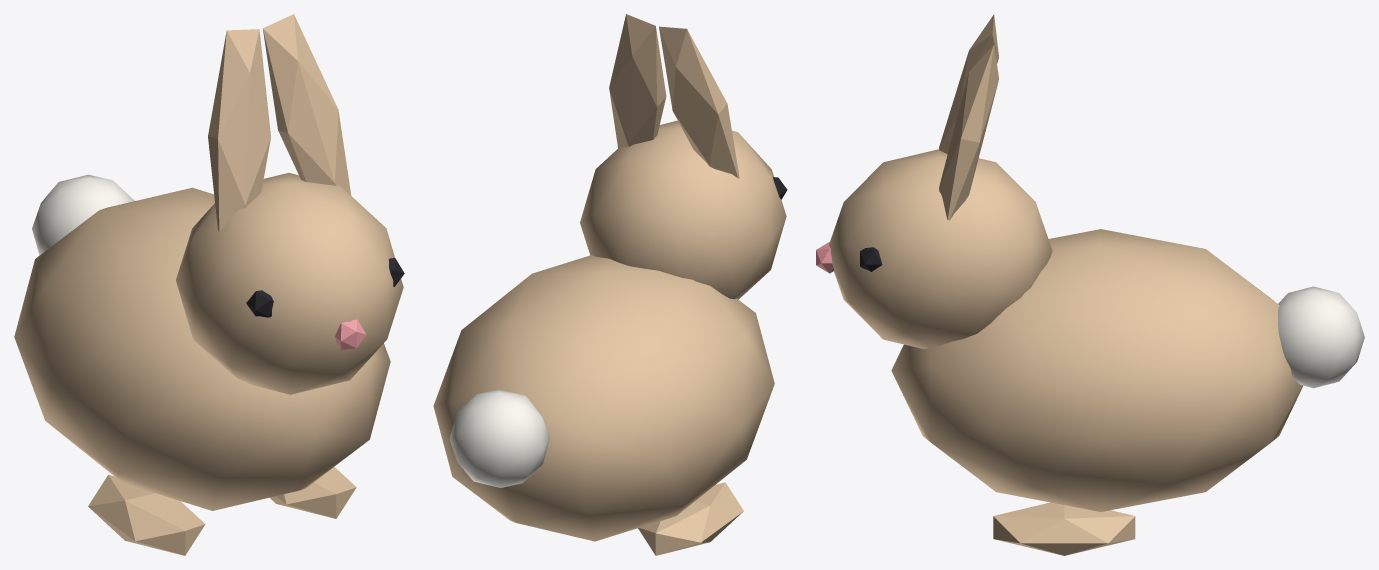
The model's file is conejo_v2.glb.
The picture shows the model from 3 angles, left to right: view 1: azimuth 30°, elevation 25°; view 2: azimuth 150°, elevation 25°; view 3: azimuth 270°, elevation 25°; orthographic projection. The views are drawn at different scales.
Parts seen in each view (by area): view 1: cuerpo, cabeza, oreja_izq, oreja_der, pata_izq, cola, pata_der, nariz, ojo_izq; view 2: cuerpo, cabeza, cola, oreja_izq, oreja_der, pata_izq; view 3: cuerpo, cabeza, cola, pata_der, oreja_der, oreja_izq.
Part boxes in pixels (<box>): cuerpo: <box>14,187,390,510</box>; cabeza: <box>176,173,403,394</box>; oreja_izq: <box>208,29,270,231</box>; oreja_der: <box>263,14,351,195</box>; pata_izq: <box>88,475,205,555</box>; cola: <box>32,174,134,255</box>; pata_der: <box>270,466,356,518</box>; nariz: <box>335,319,366,349</box>; ojo_izq: <box>246,290,273,317</box>; cuerpo: <box>433,255,774,541</box>; cabeza: <box>580,120,786,299</box>; cola: <box>449,389,549,487</box>; oreja_izq: <box>659,26,739,178</box>; oreja_der: <box>609,14,666,148</box>; pata_izq: <box>638,482,743,555</box>; cuerpo: <box>891,229,1302,511</box>; cabeza: <box>829,149,1052,348</box>; cola: <box>1278,286,1364,388</box>; pata_der: <box>993,502,1135,555</box>; oreja_der: <box>939,35,998,220</box>; oreja_izq: <box>939,14,998,153</box>.
Size of the model in its own units: 0.44 by 0.7269 by 0.7487.
